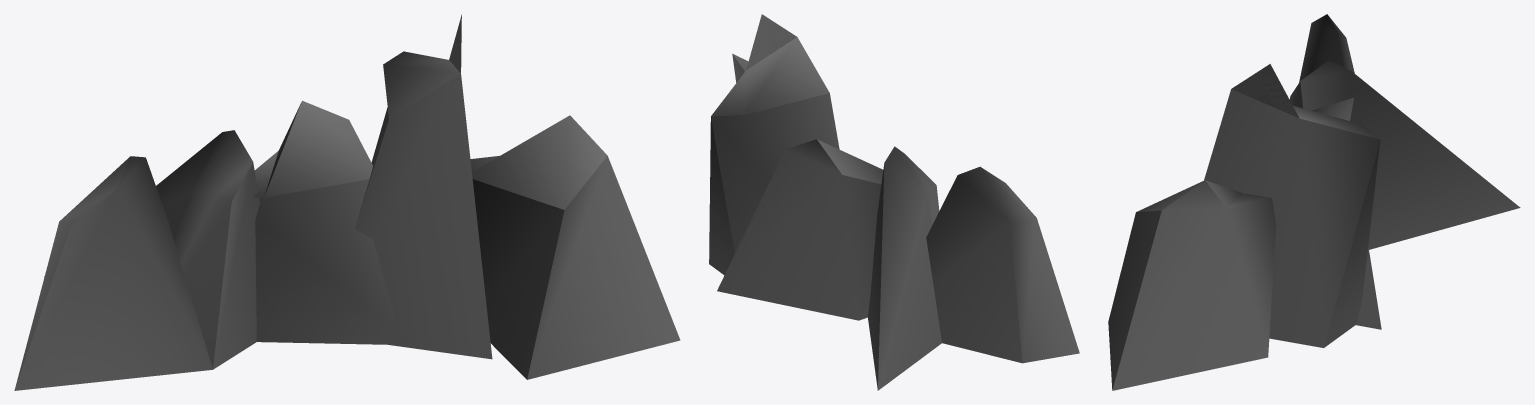
Rendered from mountains_1.glb.
The picture shows the model from 3 angles, left to right: view 1: azimuth 30°, elevation 25°; view 2: azimuth 150°, elevation 25°; view 3: azimuth 270°, elevation 25°; orthographic projection. The views are drawn at different scales.
Parts seen in each view (by area): view 1: Object_2; view 2: Object_2; view 3: Object_2.
Part boxes in pixels (x1,y1,x2,y2): Object_2: (14,14,680,390); Object_2: (709,14,1079,390); Object_2: (1108,14,1520,390).
Size of the model in its own units: 146 by 74.52 by 104.
1 material, 1 textured.
